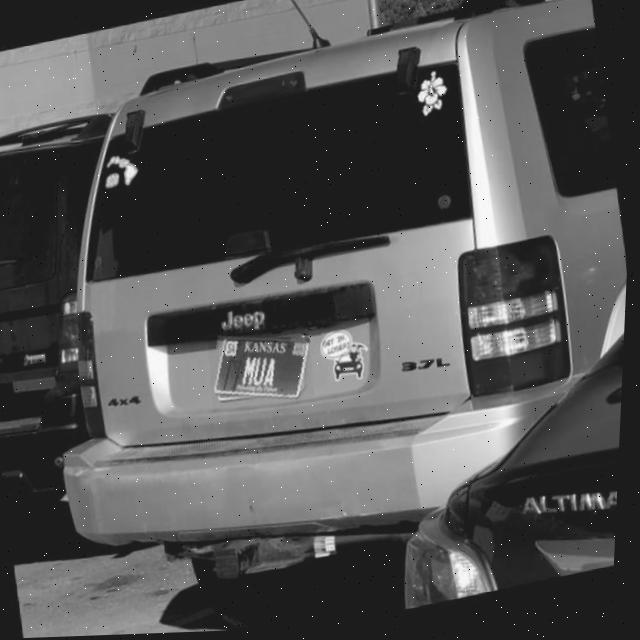LicensePlate: (216, 337, 313, 401)
